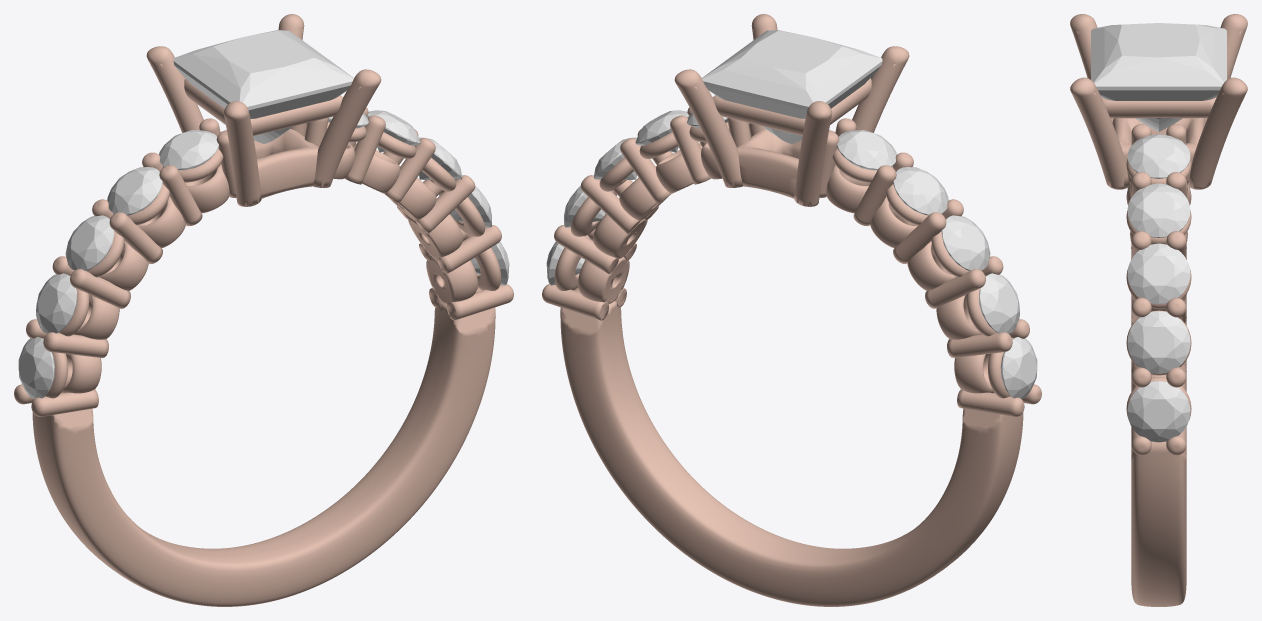
The model's file is diamond-princess-rosegold-4prong-straightband-11stone.glb.
The picture shows the model from 3 angles, left to right: view 1: azimuth 30°, elevation 25°; view 2: azimuth 150°, elevation 25°; view 3: azimuth 270°, elevation 25°; orthographic projection.
Parts seen in each view (by area): view 1: metal, stone, side.002, side.003, side.001, side.004, side, side.008, side.007; view 2: metal, stone, side.002, side.003, side.001, side.004, side, side.008, side.007; view 3: metal, stone, side.006, side.005, side.007, side.008, side.009.
Boxes of the visible parts, x1=… form: metal: x1=14, y1=14, x2=513, y2=606; stone: x1=173, y1=30, x2=353, y2=143; side.002: x1=65, y1=215, x2=114, y2=270; side.003: x1=107, y1=167, x2=162, y2=215; side.001: x1=36, y1=273, x2=76, y2=333; side.004: x1=159, y1=130, x2=218, y2=170; side: x1=18, y1=337, x2=55, y2=398; side.008: x1=366, y1=110, x2=420, y2=152; side.007: x1=419, y1=137, x2=462, y2=179; metal: x1=542, y1=14, x2=1041, y2=606; stone: x1=702, y1=30, x2=882, y2=143; side.002: x1=941, y1=215, x2=990, y2=270; side.003: x1=893, y1=167, x2=948, y2=215; side.001: x1=979, y1=273, x2=1019, y2=333; side.004: x1=837, y1=130, x2=896, y2=170; side: x1=1000, y1=337, x2=1037, y2=398; side.008: x1=635, y1=110, x2=689, y2=152; side.007: x1=593, y1=137, x2=636, y2=179; metal: x1=1070, y1=14, x2=1247, y2=606; stone: x1=1091, y1=23, x2=1226, y2=131; side.006: x1=1127, y1=311, x2=1190, y2=373; side.005: x1=1127, y1=381, x2=1190, y2=442; side.007: x1=1127, y1=243, x2=1190, y2=304; side.008: x1=1127, y1=183, x2=1190, y2=237; side.009: x1=1127, y1=134, x2=1190, y2=178.
Bounding box in the file's own units: 22 × 23.85 × 7.08.
